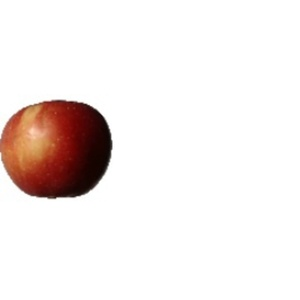maçã braeburn: (1, 96, 114, 203)
